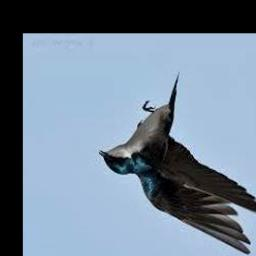Swallow: (100, 73, 256, 256)
